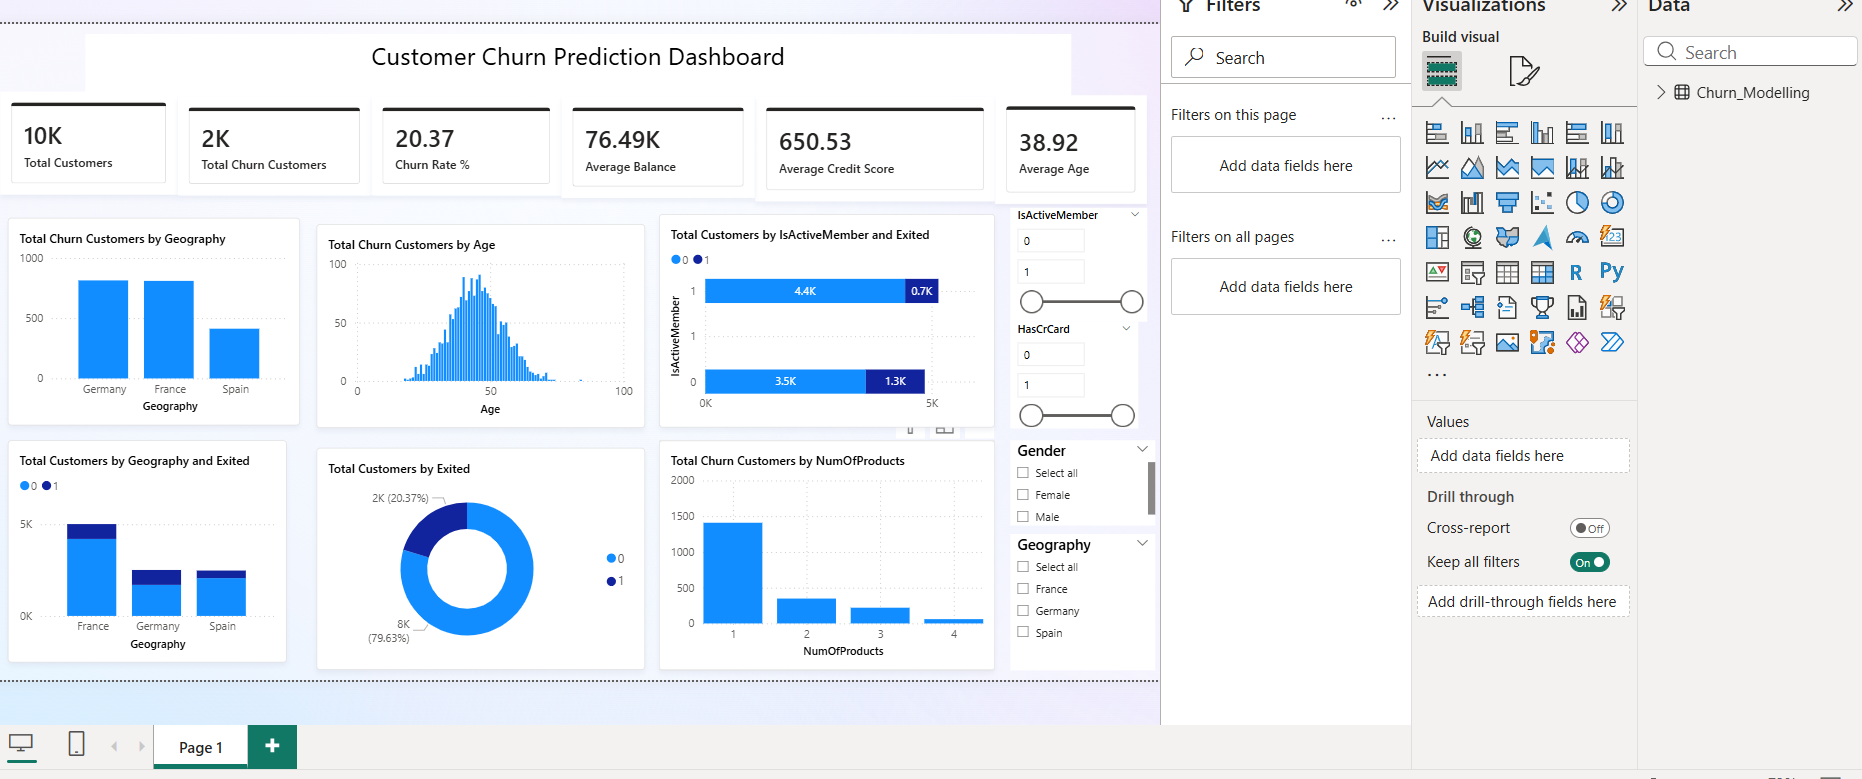

What the dashboard file says about the page in this screenshot:
{"tool":"powerbi","page":{"name":"Page 1","canvas":[1280,720],"ordinal":0},"visuals":[{"type":"cardVisual","fields":{"Data":["Churn_Modelling.Total Customers"]},"box":[6.9,74.1,194.9,113.9],"z":0},{"type":"cardVisual","fields":{"Data":["Churn_Modelling.Total Churn Customers"]},"box":[201.7,79.6,212.7,108.4],"z":1000},{"type":"cardVisual","fields":{"Data":["Churn_Modelling.Churn Rate %"]},"box":[414.4,79.6,208.6,108.4],"z":2000},{"type":"cardVisual","fields":{"Data":["Churn_Modelling.Average Credit Score"]},"box":[835.7,79.6,263.5,115.3],"z":3000},{"type":"cardVisual","fields":{"Data":["Churn_Modelling.Average Balance"]},"box":[623,79.6,212.7,111.1],"z":4000},{"type":"cardVisual","fields":{"Data":["Churn_Modelling.Average Age"]},"box":[1099.1,78.2,166,119.4],"z":5000},{"type":"donutChart","fields":{"Category":["Churn_Modelling.Exited"],"Y":["Churn_Modelling.Total Customers"]},"box":[376,465.2,338.9,244.3],"z":6000},{"type":"columnChart","fields":{"Category":["Churn_Modelling.Geography"],"Y":["Churn_Modelling.Total Customers"],"Series":["Churn_Modelling.Exited"]},"box":[48,465.2,306,244.3],"z":7000},{"type":"clusteredColumnChart","fields":{"Category":["Churn_Modelling.Geography"],"Y":["Churn_Modelling.Total Churn Customers"]},"box":[32.9,215.4,321.1,227.8],"z":8000},{"type":"columnChart","fields":{"Category":["Churn_Modelling.Age"],"Y":["Churn_Modelling.Total Churn Customers"]},"box":[376,219.6,338.9,223.7],"z":9000},{"type":"clusteredColumnChart","fields":{"Category":["Churn_Modelling.NumOfProducts"],"Y":["Churn_Modelling.Total Churn Customers"]},"box":[756.1,456.9,343.1,252.5],"z":10000},{"type":"barChart","fields":{"Category":["Churn_Modelling.IsActiveMember"],"Y":["Churn_Modelling.Total Customers"],"Series":["Churn_Modelling.Exited"]},"box":[756.1,208.6,343.1,234.6],"z":11000},{"type":"slicer","fields":{"Values":["Churn_Modelling.Geography"]},"box":[1115.6,559.9,159.2,149.6],"z":12000},{"type":"slicer","fields":{"Values":["Churn_Modelling.Gender"]},"box":[1115.6,456.9,159.2,93.3],"z":13000},{"type":"slicer","fields":{"Values":["Churn_Modelling.HasCrCard"]},"box":[1115.6,326.6,140,116.6],"z":14000},{"type":"slicer","fields":{"Values":["Churn_Modelling.IsActiveMember"]},"box":[1115.6,201.7,149.6,124.9],"z":15000}]}

Visuals, with their boxes on the page's 1280x720 design canvas (x1, y1, x2, y2). These are canvas units, not pixel positions in the 1862x779 screenshot, which may show the page scaled, cropped or inside an application window:
cardVisual - Churn_Modelling.Total Customers: [7,74,202,188]
cardVisual - Churn_Modelling.Total Churn Customers: [202,80,414,188]
cardVisual - Churn_Modelling.Churn Rate %: [414,80,623,188]
cardVisual - Churn_Modelling.Average Credit Score: [836,80,1099,195]
cardVisual - Churn_Modelling.Average Balance: [623,80,836,191]
cardVisual - Churn_Modelling.Average Age: [1099,78,1265,198]
donutChart - Churn_Modelling.Exited x Churn_Modelling.Total Customers: [376,465,715,710]
columnChart - Churn_Modelling.Geography x Churn_Modelling.Total Customers: [48,465,354,710]
clusteredColumnChart - Churn_Modelling.Geography x Churn_Modelling.Total Churn Customers: [33,215,354,443]
columnChart - Churn_Modelling.Age x Churn_Modelling.Total Churn Customers: [376,220,715,443]
clusteredColumnChart - Churn_Modelling.NumOfProducts x Churn_Modelling.Total Churn Customers: [756,457,1099,709]
barChart - Churn_Modelling.IsActiveMember x Churn_Modelling.Total Customers: [756,209,1099,443]
slicer - Churn_Modelling.Geography: [1116,560,1275,710]
slicer - Churn_Modelling.Gender: [1116,457,1275,550]
slicer - Churn_Modelling.HasCrCard: [1116,327,1256,443]
slicer - Churn_Modelling.IsActiveMember: [1116,202,1265,327]
